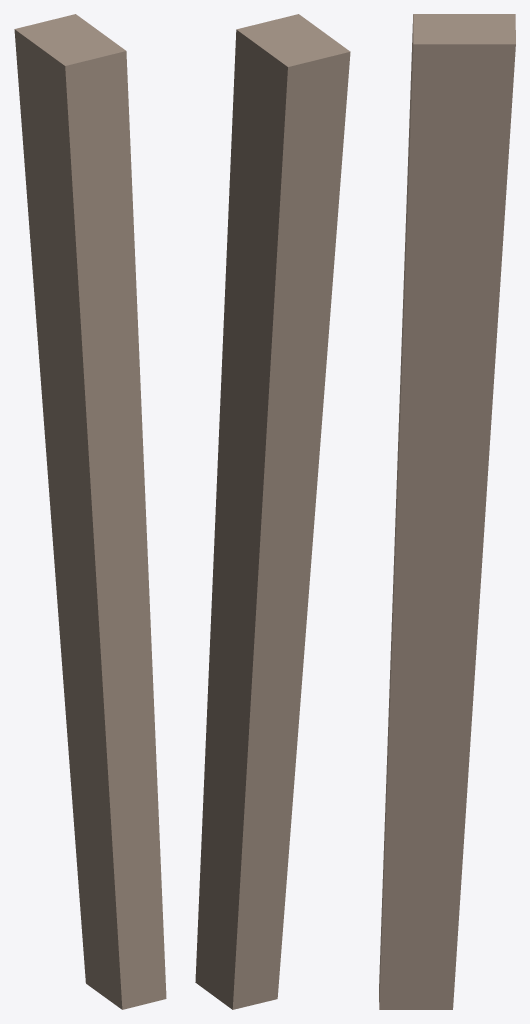
Rendered from leg2.obj.
3 renders of one model, left to right at view 1: azimuth 30°, elevation 25°; view 2: azimuth 210°, elevation 25°; view 3: azimuth 270°, elevation 25°, orthographic. The views are drawn at different scales.
Visible parts, largest first — view 1: leg2; view 2: leg2; view 3: leg2.
Part boxes in pixels (<box>): leg2: <box>14,14,166,1009</box>; leg2: <box>195,14,350,1009</box>; leg2: <box>379,14,515,1009</box>.
Bounding box in the file's own units: 1.95 × 20.73 × 2.7.
